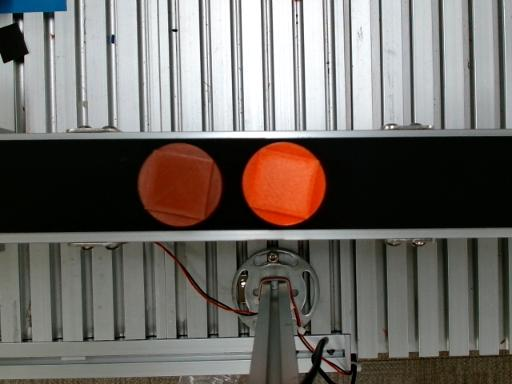Square: (145, 150, 215, 220), (251, 147, 319, 218)
